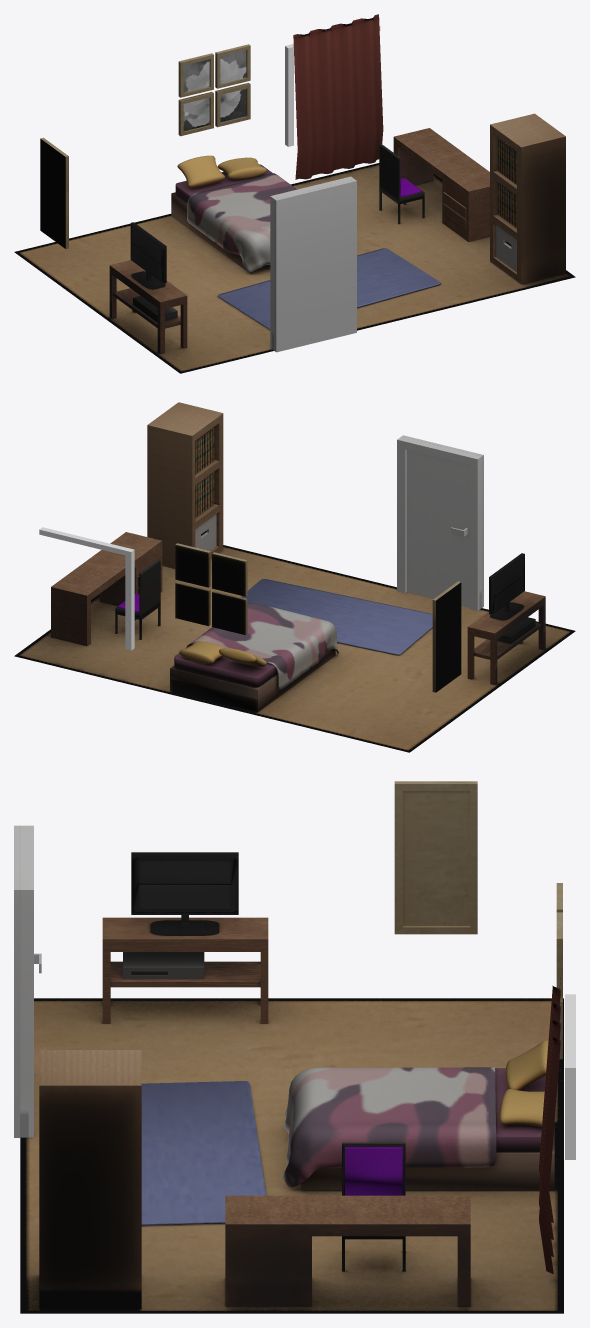
The model's file is fsdfdsfd.gltf.
3 views of the same model, one above another, from view 1: azimuth 30°, elevation 25°; view 2: azimuth 150°, elevation 25°; view 3: azimuth 270°, elevation 25° (orthographic). The views are drawn at different scales.
Visible parts, largest first — view 1: Plane.003, Cube, Plane.001, regal, lozko, Cube.012, Cube.005, Plane.002, Cube.006, Cube.007, Cube.010, Cube.013 (+3 smaller); view 2: Plane.003, Cube, lozko, regal, Plane.002, Cube.012, Cube.005, Cube.006, Cube.007, Cube.010, Cube.001, Cube.013 (+2 smaller); view 3: Plane.003, lozko, regal, Cube.012, Plane.002, Cube.006, Cube.010, Cube, Cube.007, Cube.013, Plane.001, Cube.008 (+3 smaller).
Boxes of the visible parts, x1,y1,x2,y2 form: Plane.003: (14,163,575,373); Cube: (270,176,356,352); Plane.001: (293,14,383,179); regal: (490,113,565,284); lozko: (171,155,296,272); Cube.012: (393,128,489,241); Cube.005: (178,44,250,136); Plane.002: (217,248,440,329); Cube.006: (40,137,68,248); Cube.007: (109,260,187,353); Cube.010: (130,222,166,289); Cube.013: (379,143,424,224); Plane.003: (14,545,575,752); Cube: (397,435,483,610); lozko: (170,602,338,712); regal: (147,402,223,568); Plane.002: (241,579,432,655); Cube.012: (51,532,162,645); Cube.005: (175,543,247,635); Cube.006: (432,581,461,692); Cube.007: (467,591,545,685); Cube.010: (489,553,524,620); Cube.001: (39,527,134,650); Cube.013: (115,559,160,639); Plane.003: (20,998,563,1313); lozko: (283,1040,554,1190); regal: (39,1050,141,1309); Cube.012: (225,1195,470,1306); Plane.002: (141,1081,266,1225); Cube.006: (394,781,477,934); Cube.010: (131,852,238,935); Cube: (14,825,41,1137); Cube.007: (102,917,268,1023); Cube.013: (342,1142,405,1271); Plane.001: (539,978,560,1274); Cube.008: (110,961,260,987).
Size of the model in its own units: 8.99 by 3.32 by 6.77.
27 materials, 26 textured.
